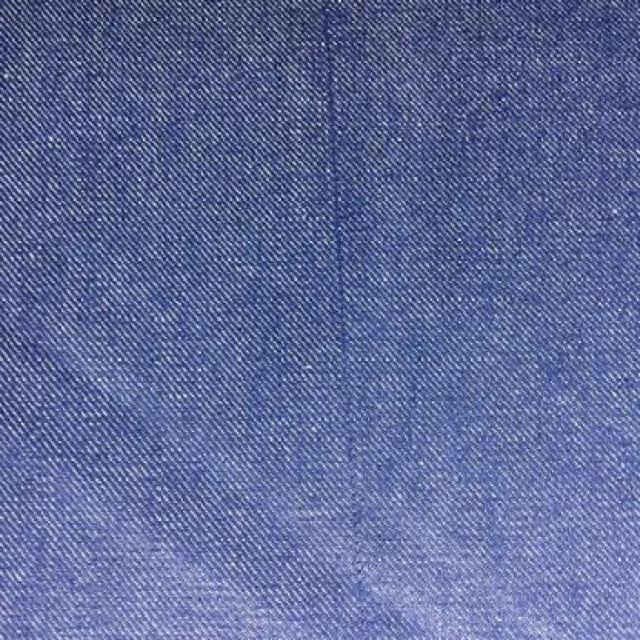pulled_or_thick_thread: (317, 9, 371, 615)
